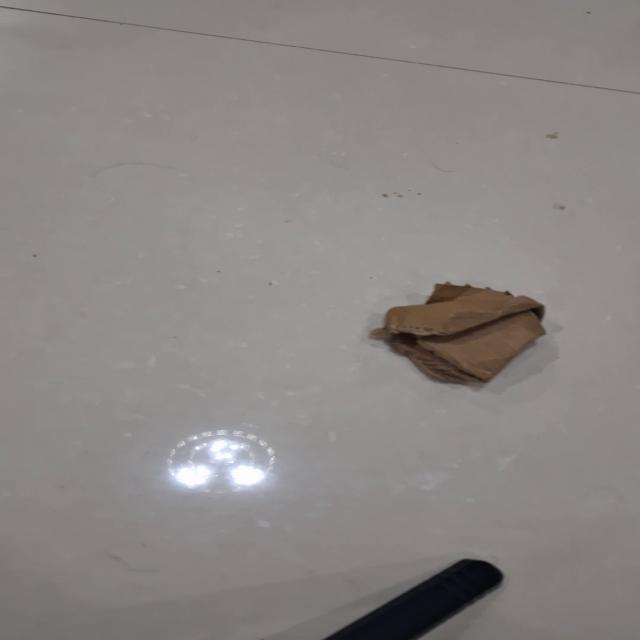paper: (370, 280, 547, 386)
